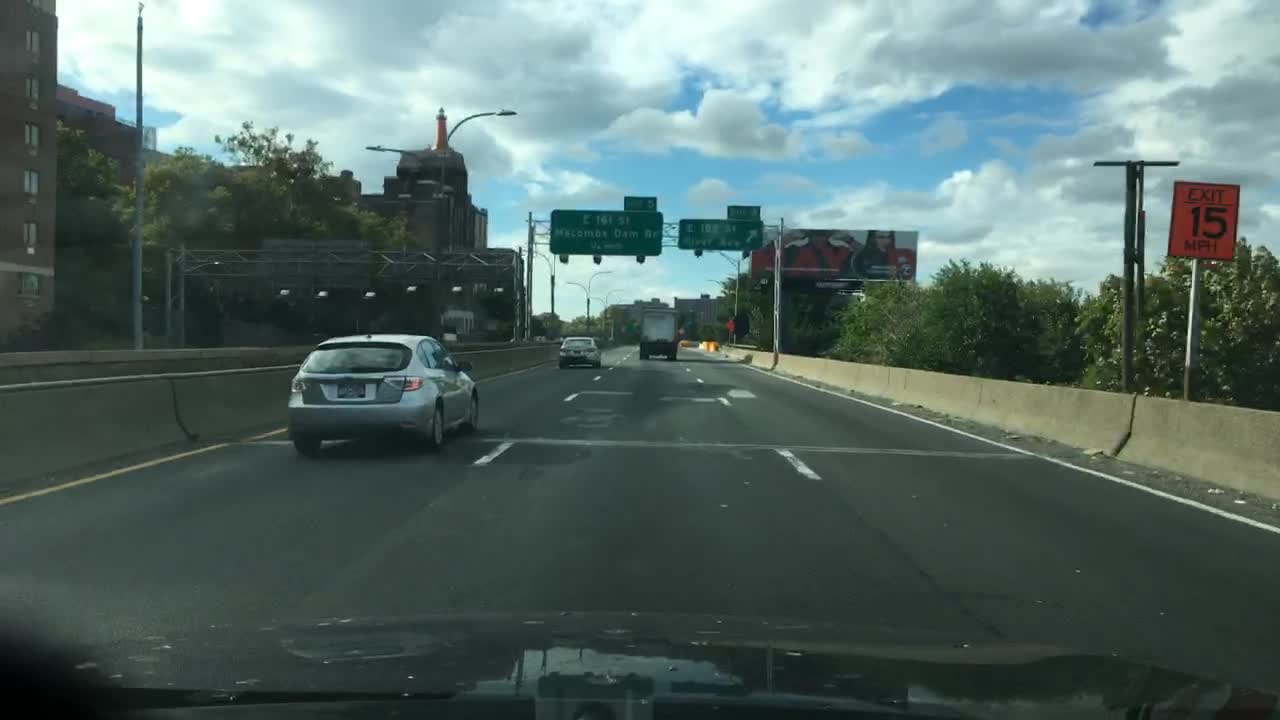car: (286, 333, 482, 457), (555, 334, 603, 367)
traffic sign: (1167, 180, 1241, 257), (263, 238, 373, 286), (552, 208, 661, 255), (678, 218, 759, 251), (624, 195, 659, 212), (727, 205, 759, 220), (725, 316, 737, 333)
truck: (638, 307, 681, 359)
